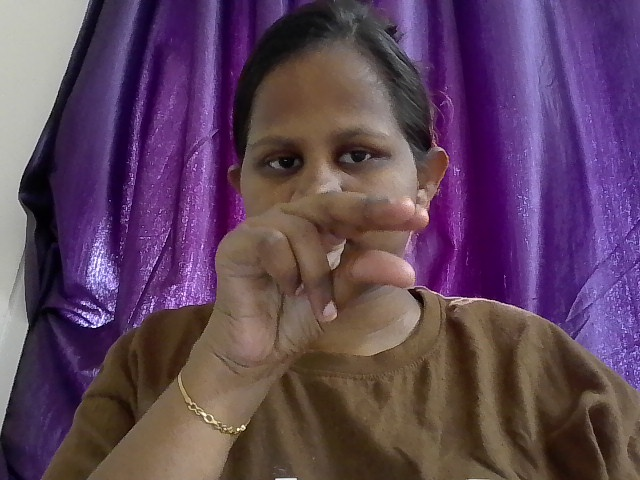NO: (138, 136, 515, 406)
